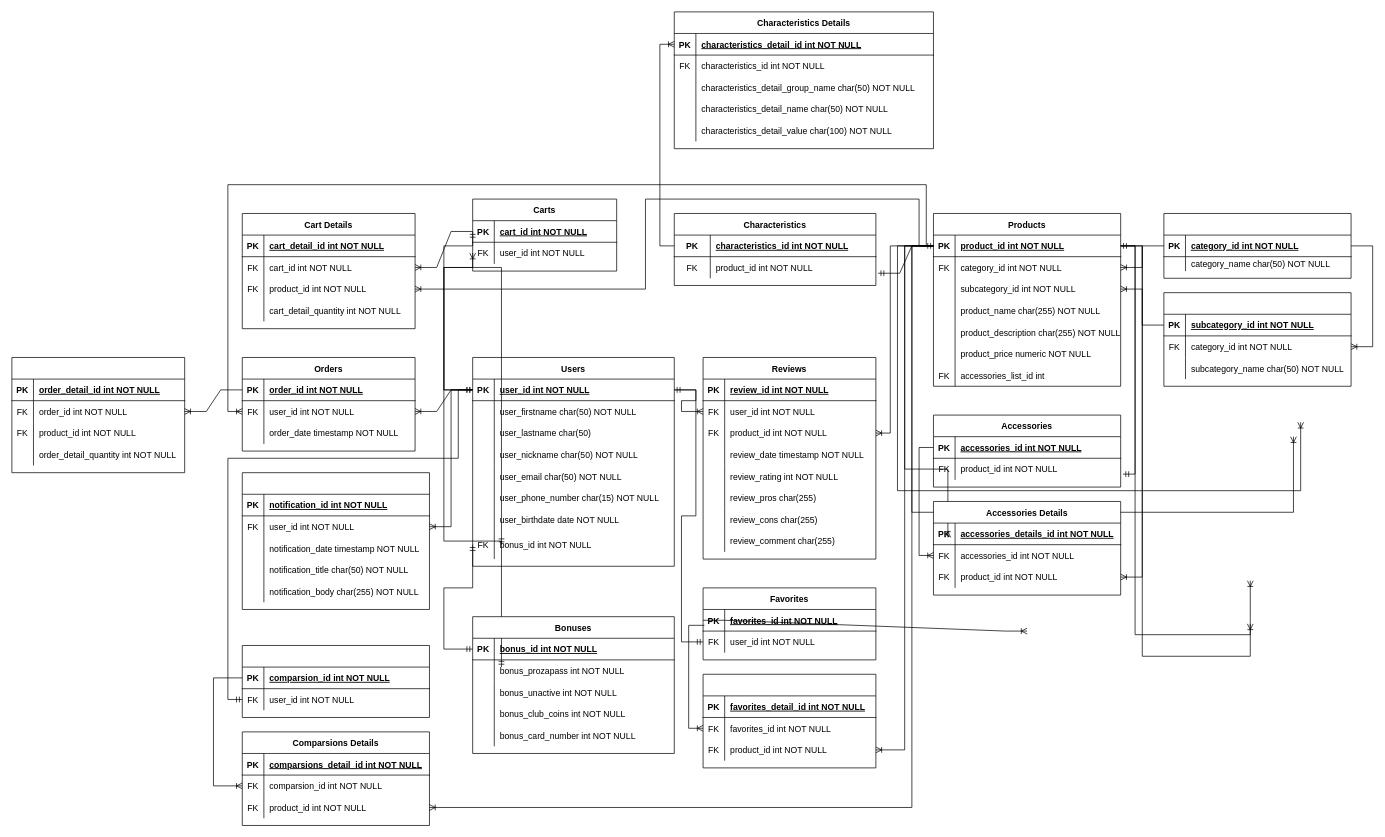
Some shapes in this 1385 by 837 pixel diagram are drawn without their labels. Each missing label, with the box of its shape:
Categories: (1163, 213, 1351, 278)
Comparsions: (242, 645, 429, 717)
Favorites Details: (702, 674, 876, 768)
Notifications: (242, 472, 429, 609)
Order Details: (11, 357, 185, 473)
Subcategories: (1163, 292, 1351, 386)
